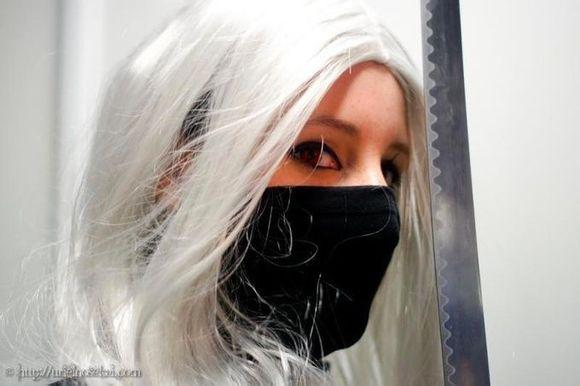OK: (186, 110, 418, 354)
